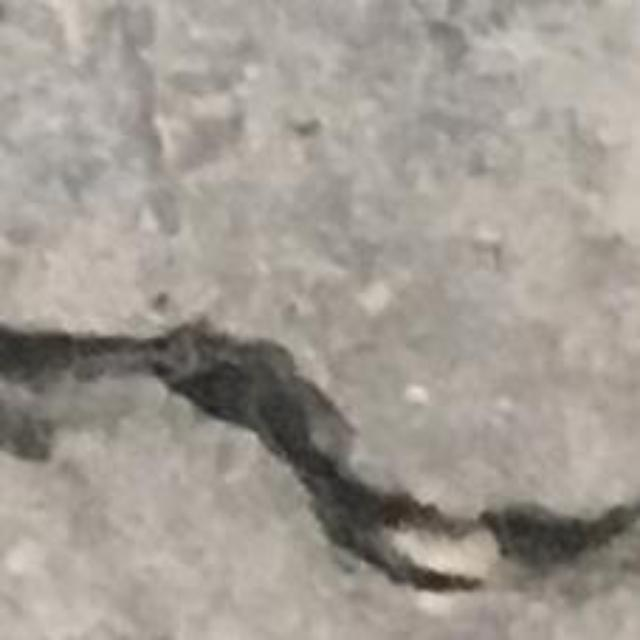crack: (0, 319, 639, 594)
